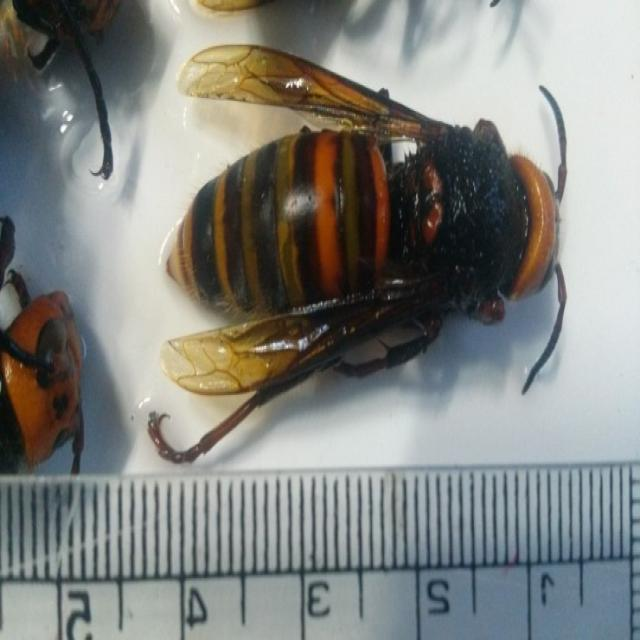Wasp: (145, 25, 579, 458)
